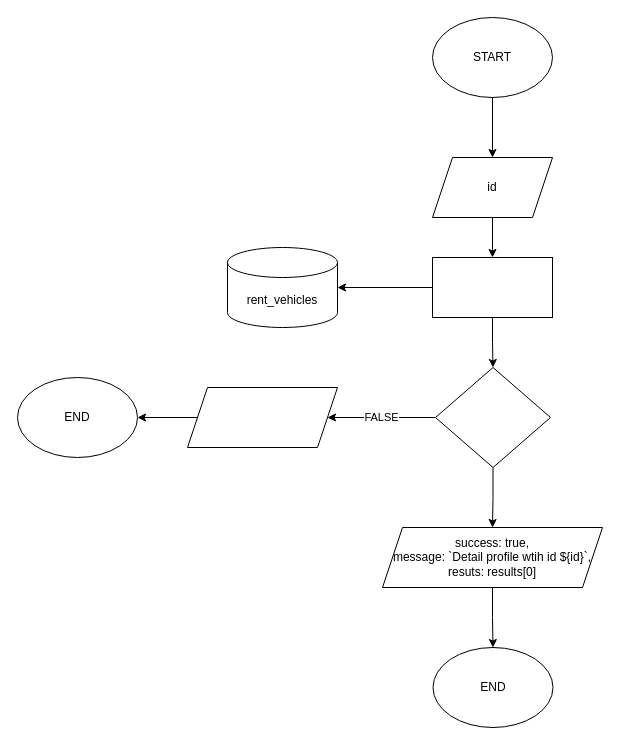
The diagram is 620 pixels wide and 745 high, and some of its shapes have lost their labels. The box of each missing label's shape, as (x1, y1, x2, y2) in pixels:
MODEL profile(id, results): (432, 256, 552, 318)
results.LENGTH > 0: (434, 366, 550, 468)
success: false, message: `User with id ${id} not found`: (186, 386, 338, 448)
